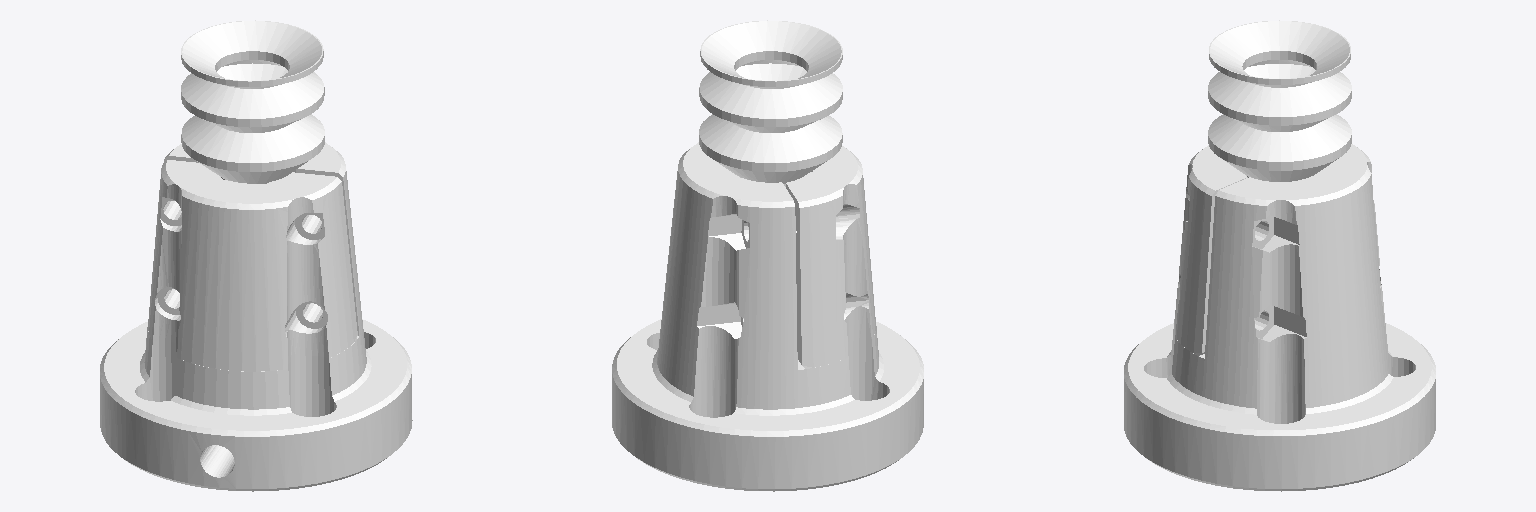
robot.urdf — box:
<?xml version="1.0" ?>
<robot name="box">
  <link name="baseLink">
    <contact>
      <lateral_friction value="1.0"/>
      <rolling_friction value="0.0"/>
      <contact_cfm value="0.0"/>
      <contact_erp value="1.0"/>
    </contact>
    <inertial>
      <origin rpy="0 0 0" xyz="0 0 0"/>
      <mass value="40"/>
      <inertia ixx="1" ixy="0" ixz="0" iyy="1" iyz="0" izz="1"/>
    </inertial>
    <visual>
      <origin rpy="0 0 0" xyz="0 0 0"/>
      <geometry>
		    <mesh filename="gripper-simu.obj" scale="1 1 1"/>
      </geometry>
      <material name="white">
        <color rgba="1 1 1 1"/>
      </material>
    </visual>
    <collision>
      <origin rpy="0 0 0" xyz="0 0 0"/>
      <geometry>
	      <mesh filename="gripper-simu.obj" scale="1 1 1"/>
      </geometry>
    </collision>
  </link>
</robot>

--- Facts derived from the render (not from the file) ---
The picture shows the robot from 3 angles, left to right: view 1: azimuth 30°, elevation 25°; view 2: azimuth 150°, elevation 25°; view 3: azimuth 270°, elevation 25°; orthographic projection.
Model box with 1 links and 0 joints (none), rooted at baseLink, posed every joint at zero.
Visible links, largest first — view 1: baseLink; view 2: baseLink; view 3: baseLink.
Link boxes in pixels (x1,y1,x2,y2): baseLink: (100,20,412,491); baseLink: (612,20,923,491); baseLink: (1124,20,1435,491).
Bounding box of the posed robot: 0.0701 × 0.07 × 0.0936 m (x, y, z).
Meshes: 1 distinct files referenced, 1 mesh visuals loaded (1 OBJ).
